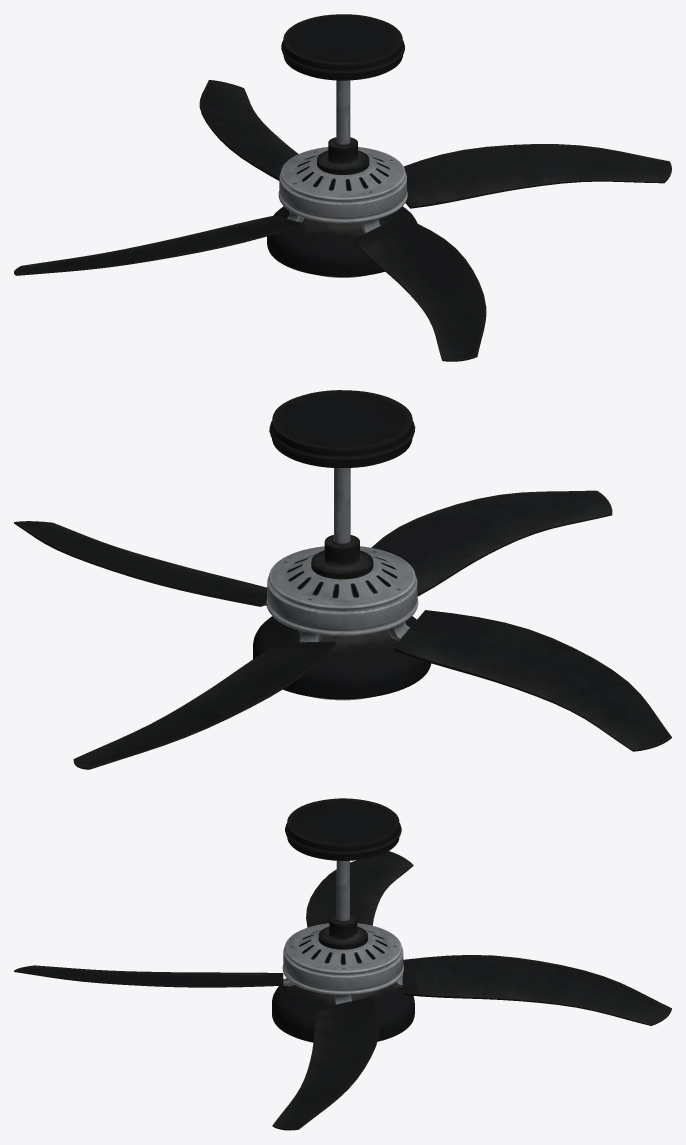
The model's file is ceiling_fan.glb.
The picture shows the model from 3 angles, top to bottom: view 1: azimuth 30°, elevation 25°; view 2: azimuth 150°, elevation 25°; view 3: azimuth 270°, elevation 25°; orthographic projection. The views are drawn at different scales.
Parts seen in each view (by area): view 1: ceiling_fan_blades, ceiling_fan; view 2: ceiling_fan_blades, ceiling_fan; view 3: ceiling_fan_blades, ceiling_fan.
Part boxes in pixels (box(x1,y1,x2,y2)): ceiling_fan_blades: box(14, 80, 671, 361); ceiling_fan: box(267, 14, 417, 277); ceiling_fan_blades: box(14, 490, 671, 769); ceiling_fan: box(253, 390, 431, 700); ceiling_fan_blades: box(14, 851, 671, 1130); ceiling_fan: box(272, 798, 414, 1042).
Size of the model in its own units: 1.46 by 0.5163 by 1.46.
1 material, 1 textured.
